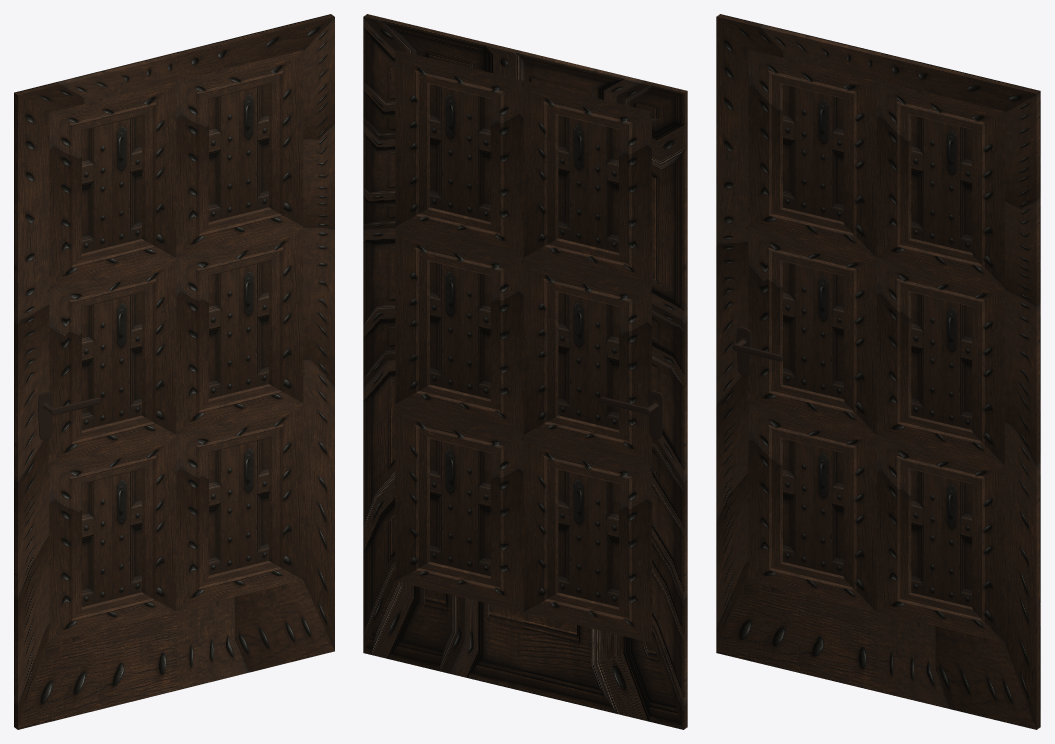
File: PuertaDer.obj
3 views of the same model, side by side, from view 1: azimuth 30°, elevation 25°; view 2: azimuth 150°, elevation 25°; view 3: azimuth 330°, elevation 25° (orthographic).
Parts seen in each view (by area): view 1: PuertaDerecha.001; view 2: PuertaDerecha.001; view 3: PuertaDerecha.001.
Part boxes in pixels (<box>): PuertaDerecha.001: <box>14,14,334,729</box>; PuertaDerecha.001: <box>363,14,687,729</box>; PuertaDerecha.001: <box>716,14,1040,729</box>.
Size of the model in its own units: 1.36 by 2.59 by 0.164.
